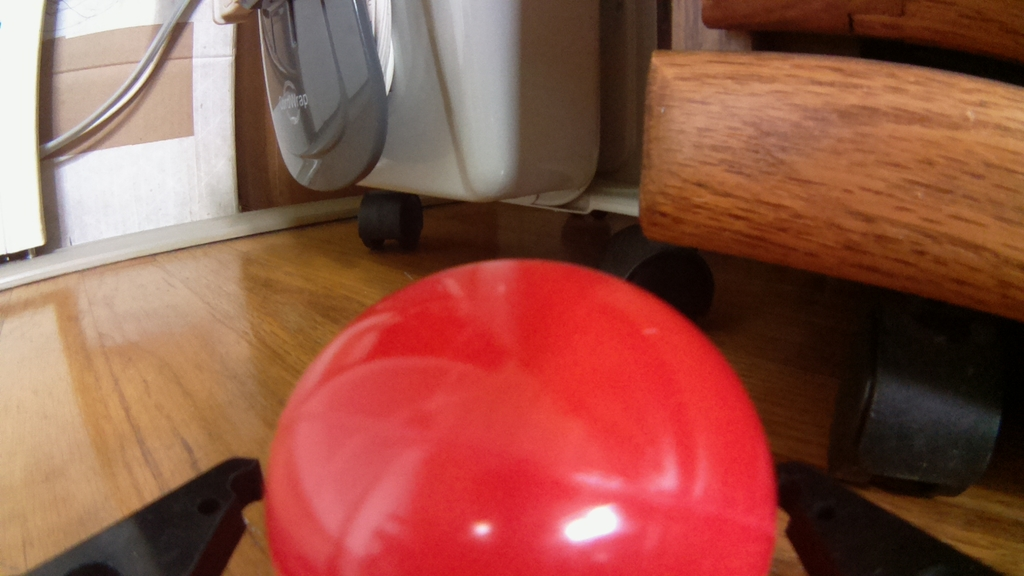ball: (252, 255, 772, 576)
